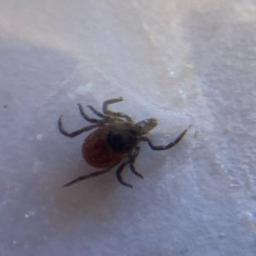Ixodes scapularis: (53, 96, 191, 191)
